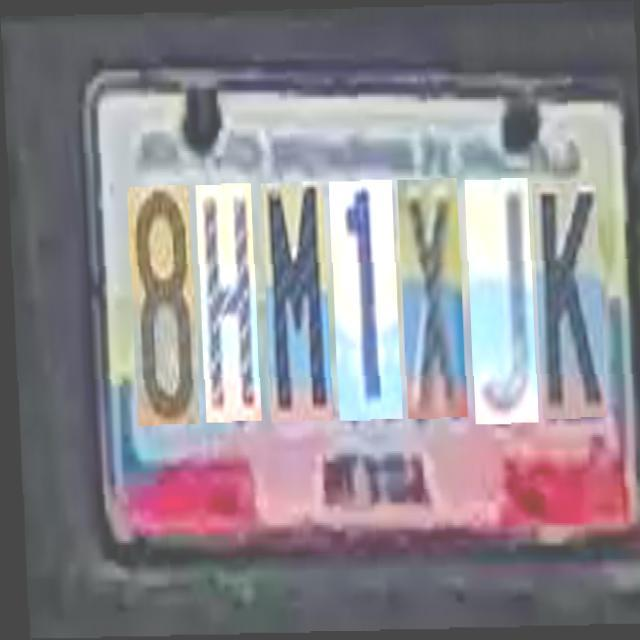1: (326, 174, 396, 413)
8: (124, 174, 193, 413)
H: (192, 174, 255, 412)
J: (462, 176, 532, 421)
K: (529, 182, 600, 418)
M: (258, 174, 326, 413)
X: (395, 174, 461, 413)
